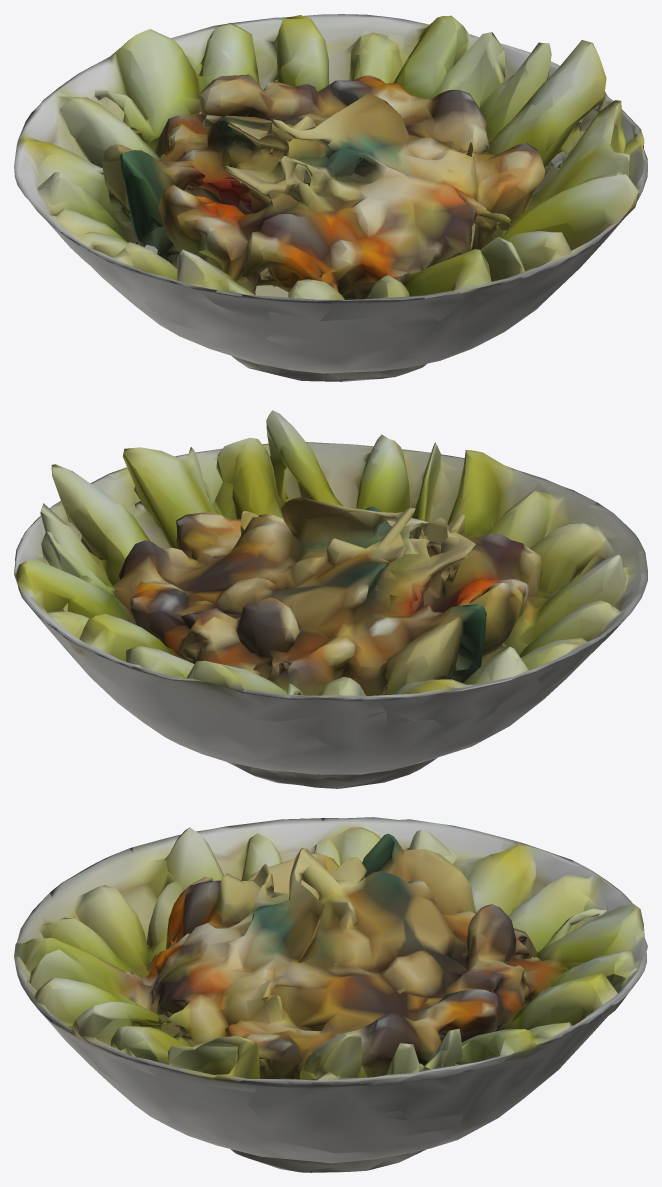
The model's file is 0003_mask_004_stir-fry_with_bok_choy.glb.
3 renders of one model, top to bottom at view 1: azimuth 30°, elevation 25°; view 2: azimuth 150°, elevation 25°; view 3: azimuth 270°, elevation 25°, orthographic.
Visible parts, largest first — view 1: mask_004_object; view 2: mask_004_object; view 3: mask_004_object.
Part boxes in pixels (x1,y1,x2,y2): mask_004_object: (14,14,647,381); mask_004_object: (14,410,647,788); mask_004_object: (14,817,647,1172).
Bounding box in the file's own units: 0.4656 × 0.1952 × 0.4677.
